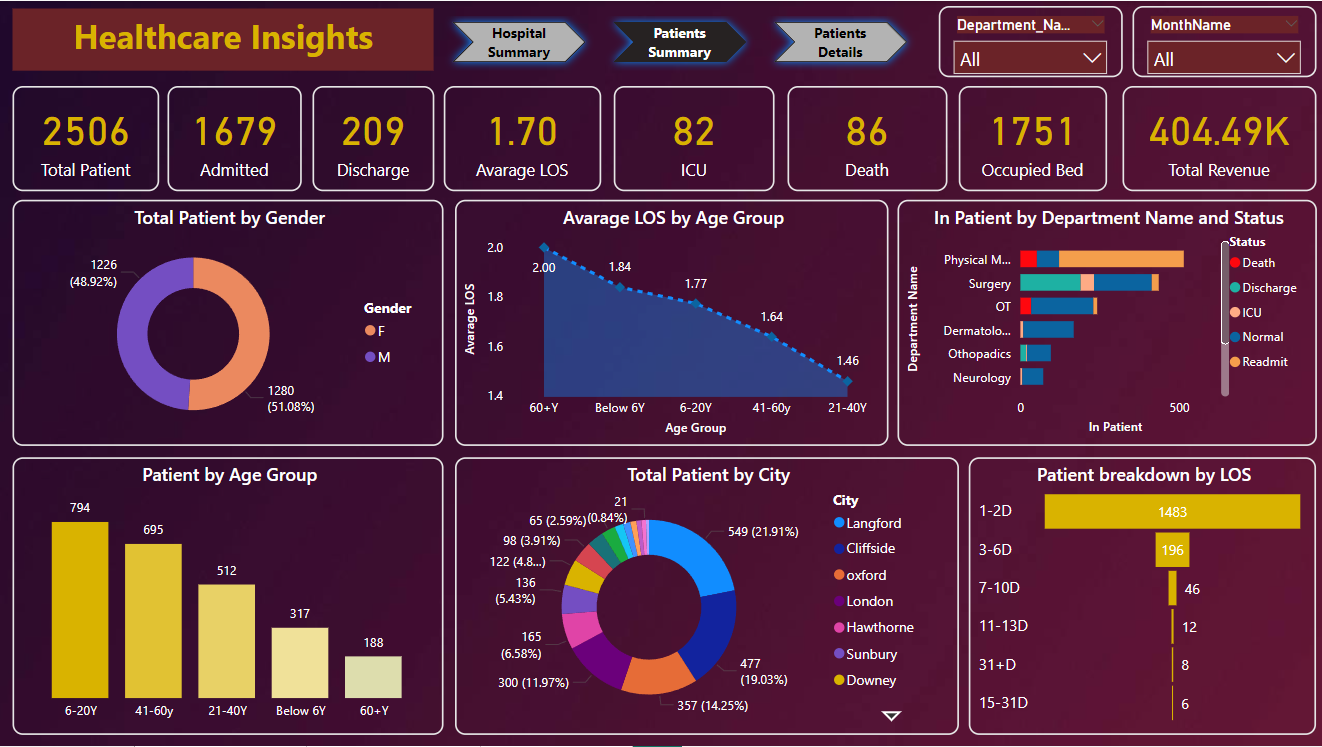

This screenshot's page, from the dashboard's own definition file:
{"tool":"powerbi","page":{"name":"Patients Summary ","canvas":[1280,720],"ordinal":1},"visuals":[{"type":"card","fields":{"Values":["Measure.Total Patient"]},"box":[12.2,81.9,141.8,101.5],"z":0},{"type":"textbox","box":[12.1,7.2,406.6,60.3],"z":1000},{"type":"slicer","fields":{"Values":["Department.Department_Name"]},"box":[906.1,4.9,177.3,68.5],"z":2000},{"type":"slicer","fields":{"Values":["Calendar_date.MonthName"]},"box":[1093.2,4.9,177.3,68.5],"z":3000},{"type":"card","fields":{"Values":["Measure.In Patient"]},"box":[161.4,81.9,129.6,101.5],"z":4000},{"type":"card","fields":{"Values":["Measure.Total Discharge"]},"box":[302,81.9,117.4,101.5],"z":5000},{"type":"card","fields":{"Values":["Measure.Avarage LOS"]},"box":[428,81.9,151.6,101.5],"z":6000},{"type":"card","fields":{"Values":["Measure.ICU"]},"box":[591.9,81.9,155.3,101.5],"z":7000},{"type":"card","fields":{"Values":["Measure.Death"]},"box":[760.6,81.9,154.1,101.5],"z":8000},{"type":"card","fields":{"Values":["Measure.Occupied Bed"]},"box":[925.7,81.9,143.1,101.5],"z":9000},{"type":"card","fields":{"Values":["Measure.Total Revenue"]},"box":[1083.4,81.9,187.1,101.5],"z":10000},{"type":"donutChart","fields":{"Category":["Detail data dataset.Gender"],"Y":["Measure.Total Patient"]},"box":[12.2,192,415.8,237.2],"z":11000},{"type":"columnChart","fields":{"Y":["Measure.Total Patient"],"Category":["Detail data dataset.Age Bucket"]},"box":[12.1,440.4,416.2,267.8],"z":12000},{"type":"areaChart","fields":{"Y":["Measure.Avarage LOS"],"Category":["Detail data dataset.Age Bucket"]},"box":[439.1,191.8,418.6,237.7],"z":13000},{"type":"barChart","fields":{"Category":["Department.Department_Name"],"Y":["Measure.In Patient"],"Series":["Detail data dataset.Status"]},"box":[865.8,192,404.8,237.2],"z":14000},{"type":"funnel","title":"Patient breakdown by LOS","fields":{"Y":["Measure.Total Patient"],"Category":["Detail data dataset.Custom"]},"box":[935,440.4,335.4,267.8],"z":15000},{"type":"donutChart","fields":{"Category":["Detail data dataset.City"],"Y":["Measure.Total Patient"]},"box":[439.1,440.4,486.2,267.8],"z":16000},{"type":"pageNavigator","box":[428.3,12.1,457.2,55.5],"z":17000}]}

Visuals, with their boxes in screenshot pixels (x1, y1, x2, y2), scaled from the page's 1280x720 canvas onto the 1322x747 screenshot:
card - Measure.Total Patient: {"left": 13, "top": 85, "right": 159, "bottom": 190}
textbox: {"left": 12, "top": 7, "right": 432, "bottom": 70}
slicer - Department.Department_Name: {"left": 936, "top": 5, "right": 1119, "bottom": 76}
slicer - Calendar_date.MonthName: {"left": 1129, "top": 5, "right": 1312, "bottom": 76}
card - Measure.In Patient: {"left": 167, "top": 85, "right": 301, "bottom": 190}
card - Measure.Total Discharge: {"left": 312, "top": 85, "right": 433, "bottom": 190}
card - Measure.Avarage LOS: {"left": 442, "top": 85, "right": 599, "bottom": 190}
card - Measure.ICU: {"left": 611, "top": 85, "right": 772, "bottom": 190}
card - Measure.Death: {"left": 786, "top": 85, "right": 945, "bottom": 190}
card - Measure.Occupied Bed: {"left": 956, "top": 85, "right": 1104, "bottom": 190}
card - Measure.Total Revenue: {"left": 1119, "top": 85, "right": 1312, "bottom": 190}
donutChart - Detail data dataset.Gender x Measure.Total Patient: {"left": 13, "top": 199, "right": 442, "bottom": 445}
columnChart - Measure.Total Patient x Detail data dataset.Age Bucket: {"left": 12, "top": 457, "right": 442, "bottom": 735}
areaChart - Measure.Avarage LOS x Detail data dataset.Age Bucket: {"left": 454, "top": 199, "right": 886, "bottom": 446}
barChart - Department.Department_Name x Measure.In Patient: {"left": 894, "top": 199, "right": 1312, "bottom": 445}
"Patient breakdown by LOS" funnel: {"left": 966, "top": 457, "right": 1312, "bottom": 735}
donutChart - Detail data dataset.City x Measure.Total Patient: {"left": 454, "top": 457, "right": 956, "bottom": 735}
pageNavigator: {"left": 442, "top": 13, "right": 915, "bottom": 70}
